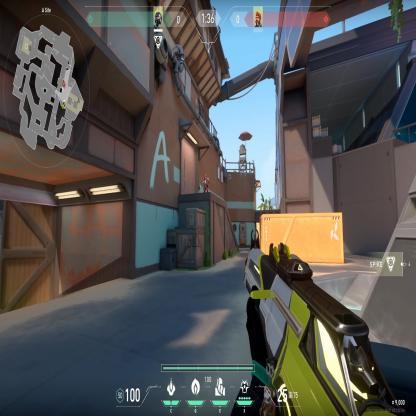enemy: (202, 172, 210, 194)
